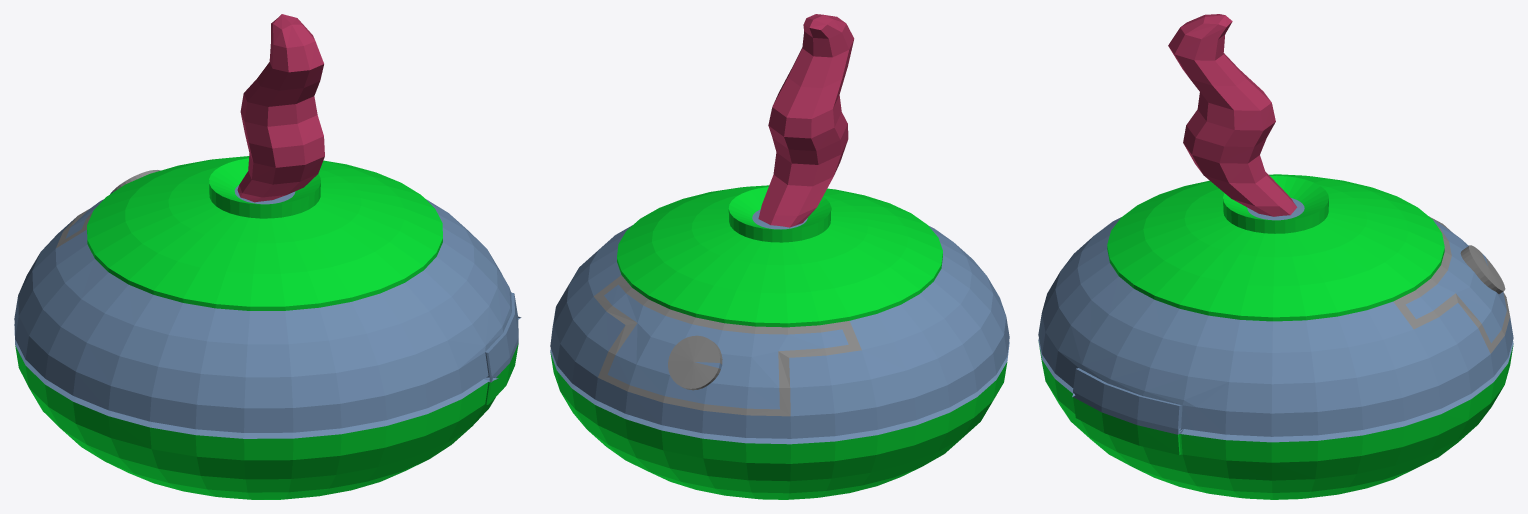
The model's file is potion.obj.
3 renders of one model, left to right at view 1: azimuth 30°, elevation 25°; view 2: azimuth 150°, elevation 25°; view 3: azimuth 270°, elevation 25°, orthographic. The views are drawn at different scales.
Visible parts, largest first — view 1: potion; view 2: potion; view 3: potion.
Boxes of the visible parts, bbox=[...] form: potion: bbox=[14, 14, 521, 499]; potion: bbox=[550, 14, 1009, 499]; potion: bbox=[1038, 14, 1513, 499].
Size of the model in its own units: 0.967 by 1 by 0.967.
